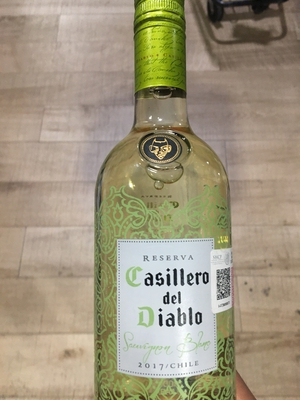casillero del diablo sauvignon blanc: (94, 5, 247, 400)
